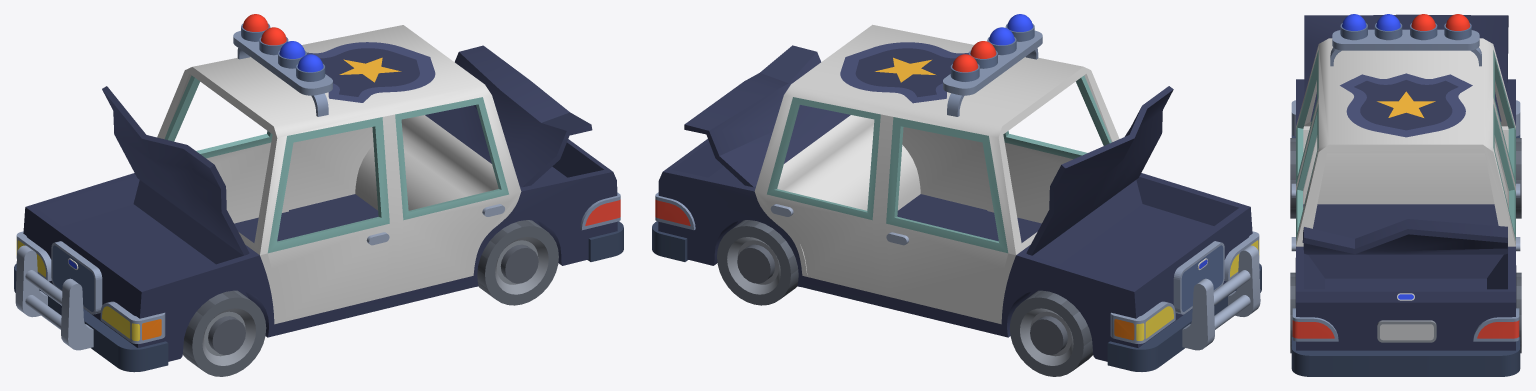
The model's file is CarPolicia DES.fbx.
3 renders of one model, left to right at view 1: azimuth 30°, elevation 25°; view 2: azimuth 150°, elevation 25°; view 3: azimuth 270°, elevation 25°, orthographic. The views are drawn at different scales.
Visible parts, largest first — view 1: Police Car Des, Police Car Des.002, Police Car Des.006, Police Car Des.004, Police Car Des.005, Police Car Wheel FL, Police Car Wheel BL, Police Car Des.003, Police Car Des.008, Police Car Des.001; view 2: Police Car Des, Police Car Des.008, Police Car Des.006, Police Car Des.003, Police Car Des.005, Police Car Wheel FR, Police Car Wheel BR, Police Car Des.004, Police Car Des.002, Police Car Des.001; view 3: Police Car Des, Police Car Des.006, Police Car Des.001, Police Car Des.005, Police Car Des.002, Police Car Des.008, Police Car Des.003, Police Car Des.004, Police Car Wheel FL, Police Car Wheel FR, Police Car Wheel BL, Police Car Wheel BR.
Boxes of the visible parts, box(x1,y1,x2,y2) form: Police Car Des: box(14, 25, 623, 372); Police Car Des.002: box(267, 117, 389, 322); Police Car Des.006: box(425, 45, 592, 187); Police Car Des.004: box(395, 97, 509, 293); Police Car Des.005: box(102, 86, 249, 255); Police Car Wheel FL: box(183, 290, 266, 376); Police Car Wheel BL: box(477, 220, 558, 305); Police Car Des.003: box(289, 127, 373, 209); Police Car Des.008: box(164, 75, 272, 223); Police Car Des.001: box(233, 14, 332, 116); Police Car Des: box(652, 24, 1261, 371); Police Car Des.008: box(886, 117, 1008, 322); Police Car Des.006: box(684, 45, 850, 187); Police Car Des.003: box(766, 97, 880, 293); Police Car Des.005: box(1026, 86, 1173, 255); Police Car Wheel FR: box(1009, 290, 1093, 376); Police Car Wheel BR: box(717, 220, 798, 305); Police Car Des.004: box(902, 127, 987, 209); Police Car Des.002: box(1003, 75, 1111, 223); Police Car Des.001: box(943, 14, 1042, 116); Police Car Des: box(1291, 38, 1520, 376); Police Car Des.006: box(1302, 219, 1507, 254); Police Car Des.001: box(1330, 14, 1481, 66); Police Car Des.005: box(1304, 14, 1508, 121); Police Car Des.002: box(1291, 50, 1318, 197); Police Car Des.008: box(1493, 50, 1520, 197); Police Car Des.003: box(1493, 104, 1520, 251); Police Car Des.004: box(1291, 104, 1318, 251); Police Car Wheel FL: box(1290, 138, 1295, 218); Police Car Wheel FR: box(1516, 138, 1521, 218); Police Car Wheel BL: box(1290, 272, 1295, 353); Police Car Wheel BR: box(1516, 272, 1521, 353).
Bounding box in the file's own units: 10.08 × 4.88 × 4.04.
